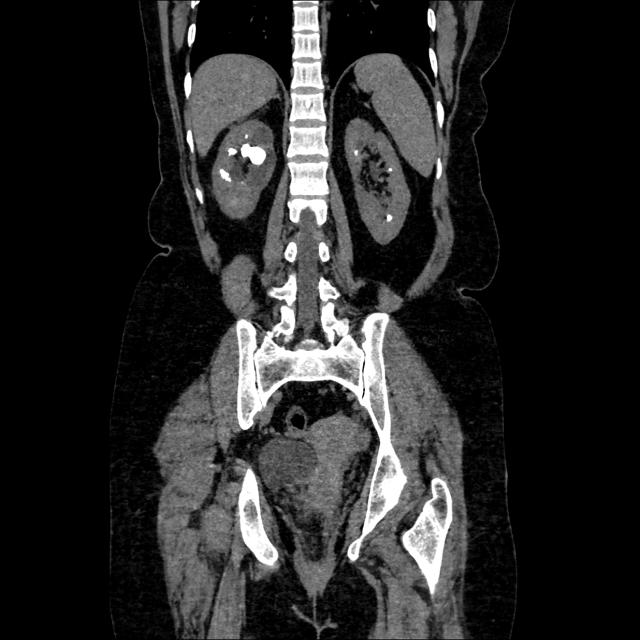kidney: (350, 117, 411, 248), (218, 122, 279, 225)
stone: (238, 139, 269, 171), (220, 160, 234, 190), (228, 141, 236, 161), (386, 215, 395, 228)
